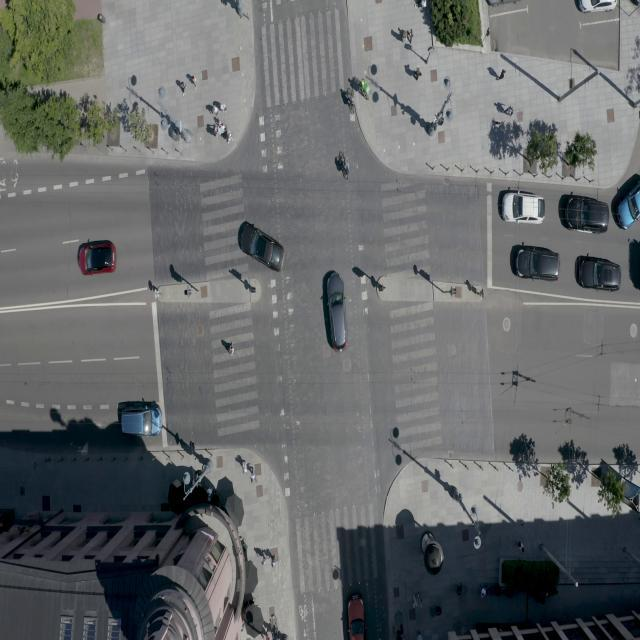vehicle: (241, 222, 284, 272), (326, 271, 348, 354), (566, 196, 610, 233), (580, 256, 622, 292), (514, 248, 561, 280), (502, 190, 546, 224), (79, 240, 117, 276), (122, 404, 164, 436), (616, 177, 640, 230), (346, 593, 366, 640), (577, 0, 617, 14), (356, 75, 369, 101), (340, 150, 350, 182), (346, 88, 356, 116), (413, 64, 422, 82), (502, 105, 514, 118), (192, 74, 200, 92), (250, 466, 258, 483), (212, 124, 220, 140), (260, 550, 268, 566), (211, 104, 220, 118), (517, 542, 526, 556), (417, 592, 424, 610), (412, 592, 418, 612), (180, 80, 187, 96), (226, 132, 234, 146), (498, 68, 506, 82), (408, 28, 414, 46), (242, 459, 248, 476), (228, 340, 234, 357), (479, 586, 486, 600), (220, 102, 228, 114), (271, 555, 276, 571), (402, 31, 408, 44)
